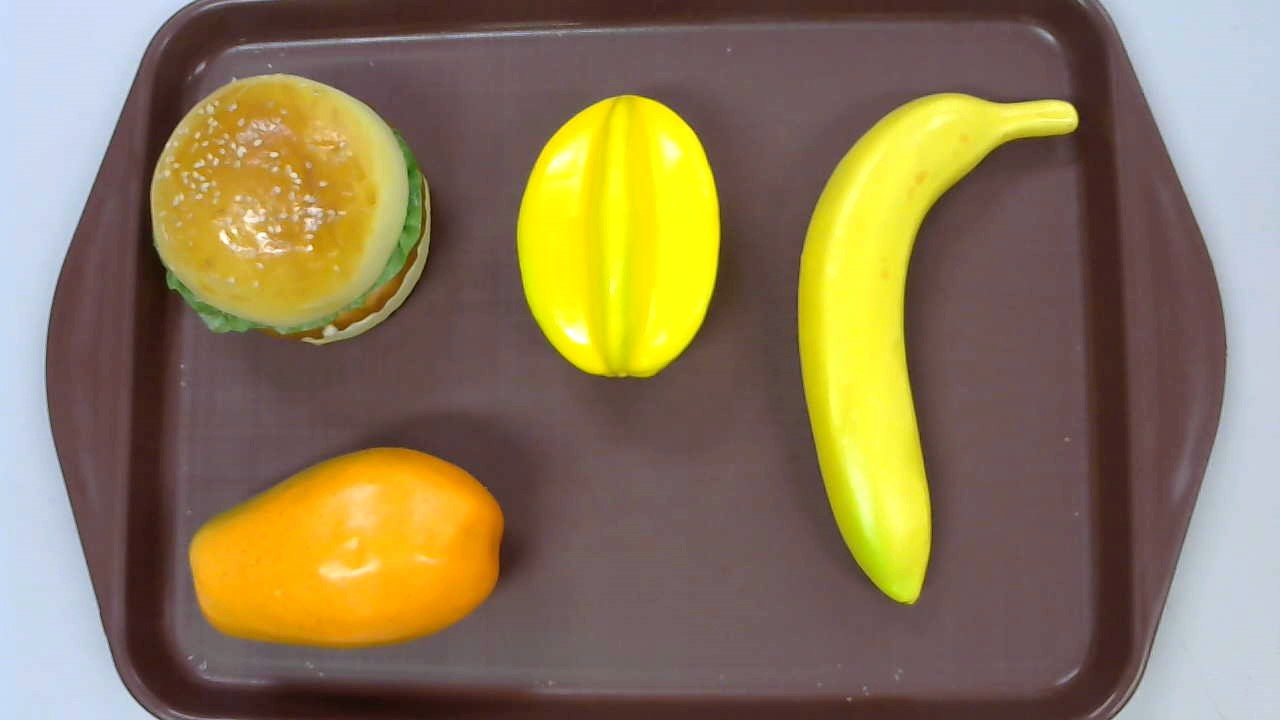banana: (797, 90, 1078, 607)
hamburger: (150, 73, 431, 346)
papya: (188, 446, 504, 649)
star fruit: (515, 94, 720, 379)
